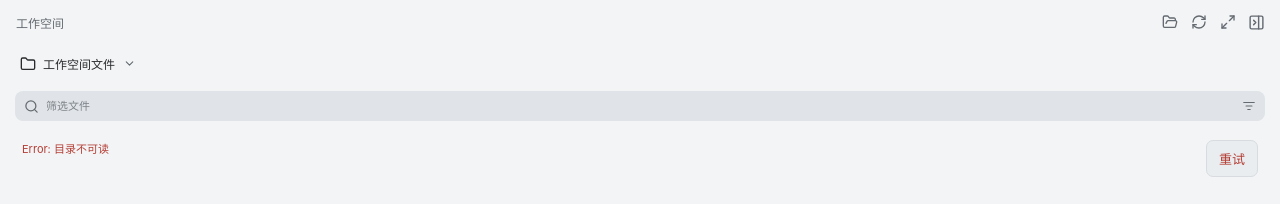
it: shows a directory error with retry instead of presenting an empty success
The image size is (1280, 204).
Expected: the message "Error: 目录不可读 重试" is shown, 12,130 -> 1268,187
What coordinates should you click on to do the following:
click the button "重试"
I would click on:
 (1232, 158)
Its box is 1206,140 -> 1258,177.
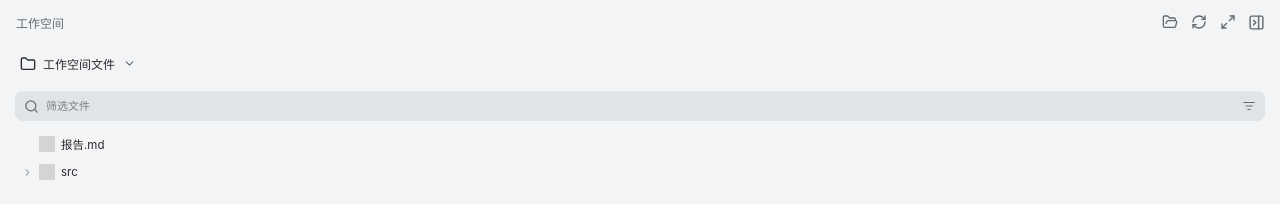
Expected: the text "报告.md" is shown, 61,138 -> 104,152
